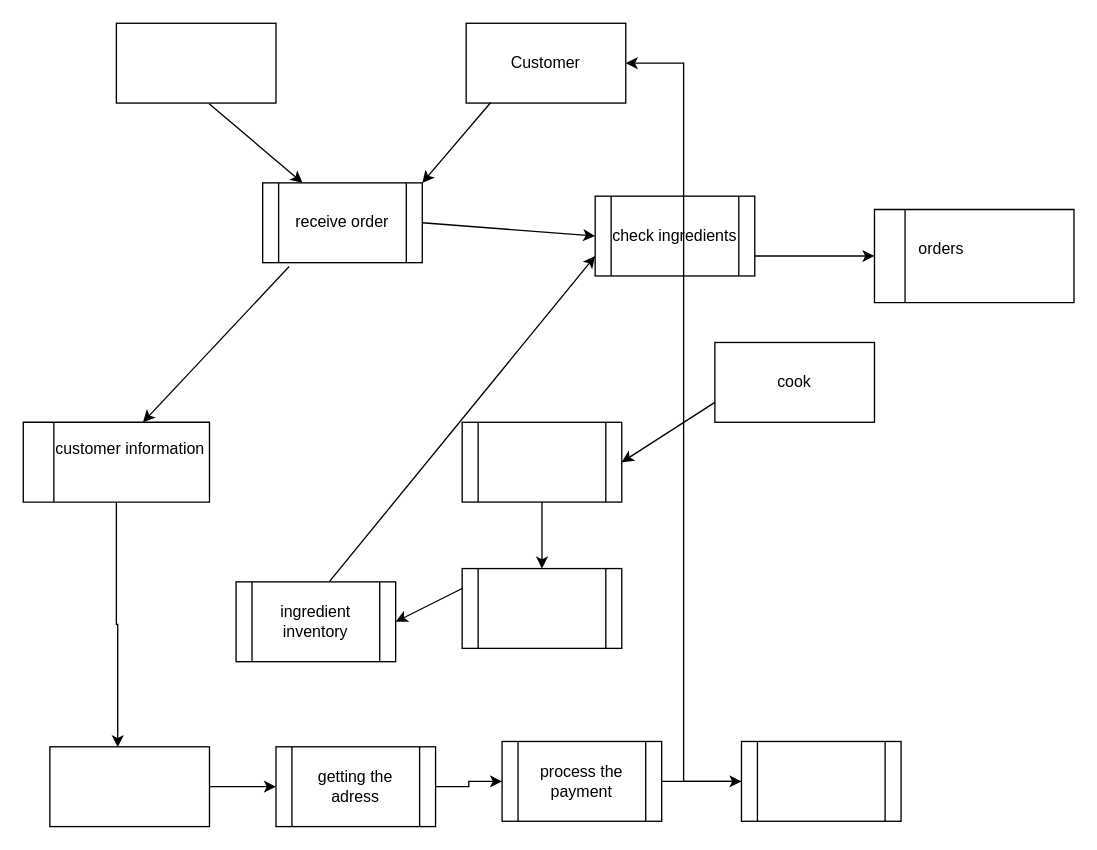
Image size: 1097x850. Some labels were removed from this diagram. The centre of each missing label's shape, as x and y in pixels:
"cook the pizza" belongs at (x=541, y=607).
"delivery service" belongs at (x=129, y=786).
"getting the ingredients" belongs at (x=541, y=461).
"give a receipt" belongs at (x=820, y=780).
"Order" belongs at (x=195, y=62).
